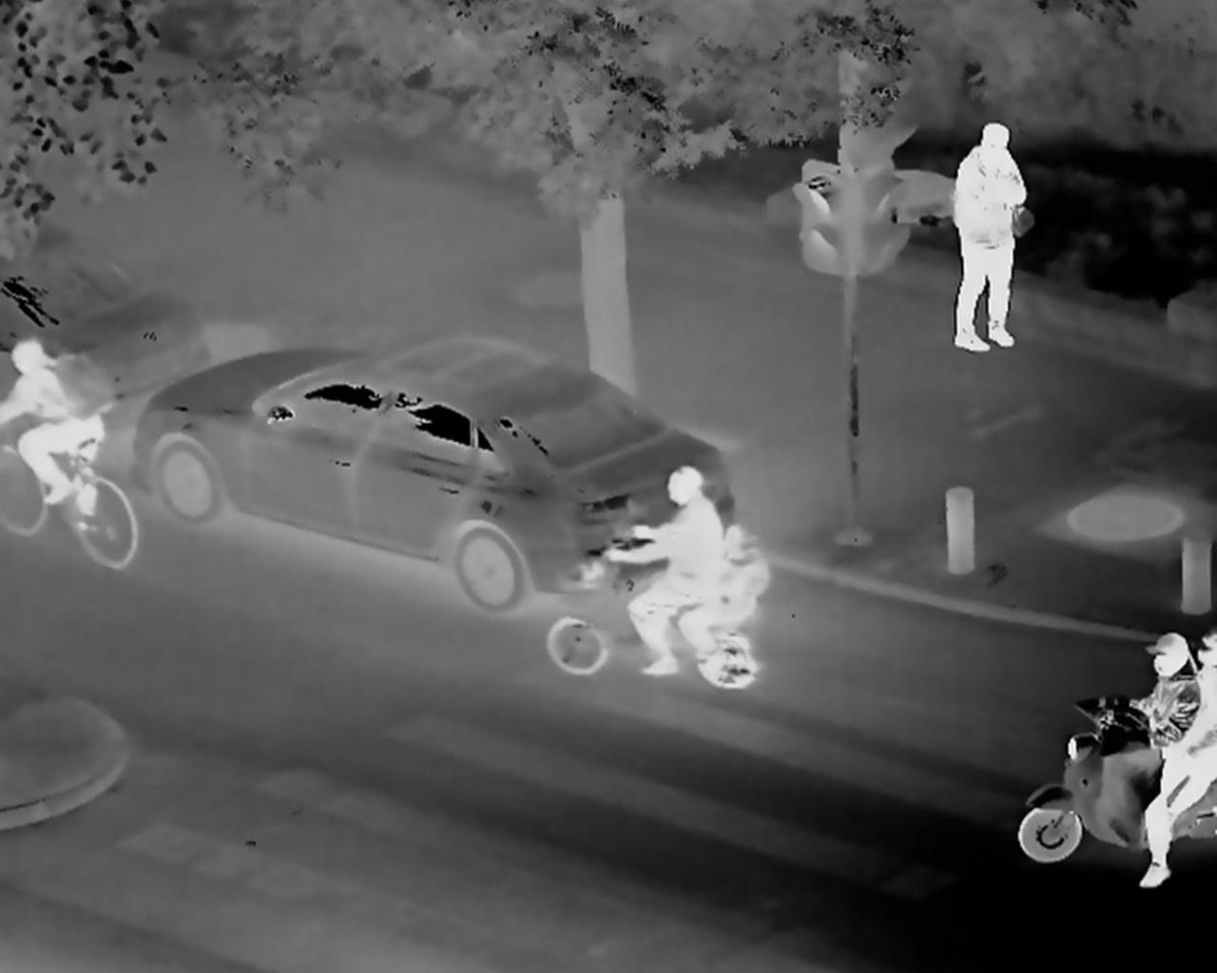person: (596, 462, 724, 678), (937, 109, 1041, 366), (1113, 634, 1195, 888), (679, 521, 773, 672), (1169, 628, 1217, 844)
